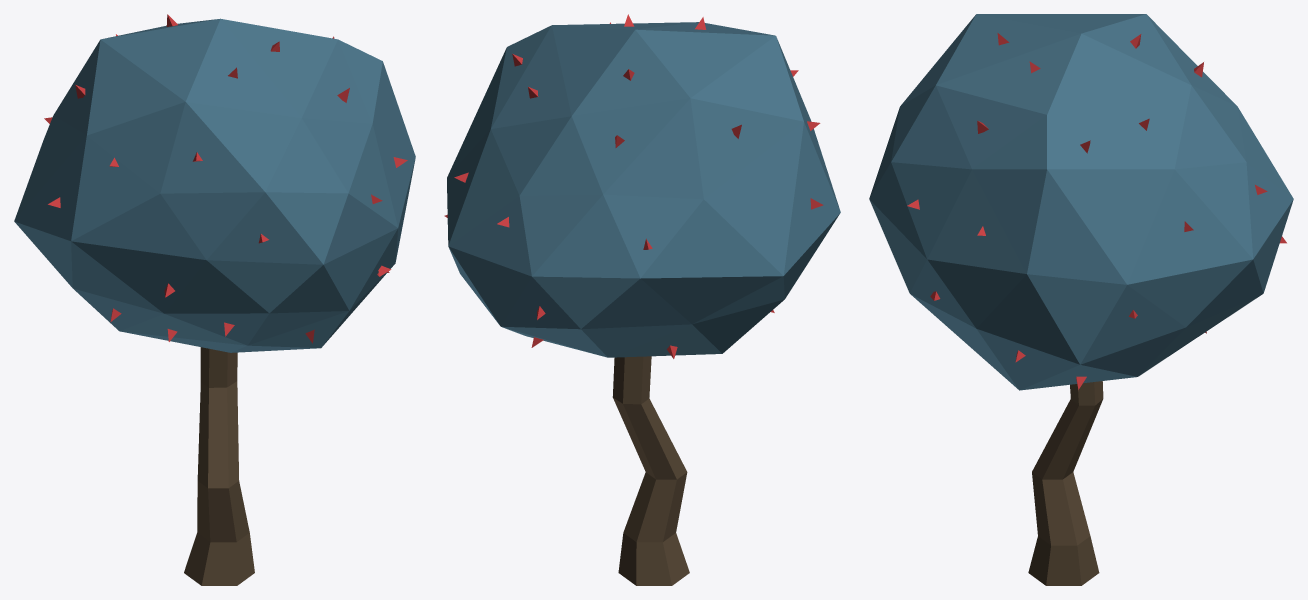
The model's file is Tree_4_Blue.fbx.
The picture shows the model from 3 angles, left to right: view 1: azimuth 30°, elevation 25°; view 2: azimuth 150°, elevation 25°; view 3: azimuth 270°, elevation 25°; orthographic projection.
Parts seen in each view (by area): view 1: Tree_4_Blue_Part_2, Tree_4_Blue_Part_1, Tree_4_Blue_Part_3; view 2: Tree_4_Blue_Part_2, Tree_4_Blue_Part_1, Tree_4_Blue_Part_3; view 3: Tree_4_Blue_Part_2, Tree_4_Blue_Part_1, Tree_4_Blue_Part_3.
Boxes of the visible parts, x1=… form: Tree_4_Blue_Part_2: x1=14, y1=18, x2=415, y2=352; Tree_4_Blue_Part_1: x1=184, y1=347, x2=254, y2=585; Tree_4_Blue_Part_3: x1=44, y1=14, x2=407, y2=343; Tree_4_Blue_Part_2: x1=447, y1=22, x2=840, y2=357; Tree_4_Blue_Part_1: x1=612, y1=356, x2=689, y2=585; Tree_4_Blue_Part_3: x1=444, y1=14, x2=823, y2=358; Tree_4_Blue_Part_2: x1=869, y1=14, x2=1293, y2=390; Tree_4_Blue_Part_1: x1=1028, y1=381, x2=1103, y2=585; Tree_4_Blue_Part_3: x1=907, y1=33, x2=1286, y2=389.
Size of the model in its own units: 339 by 507 by 358.
